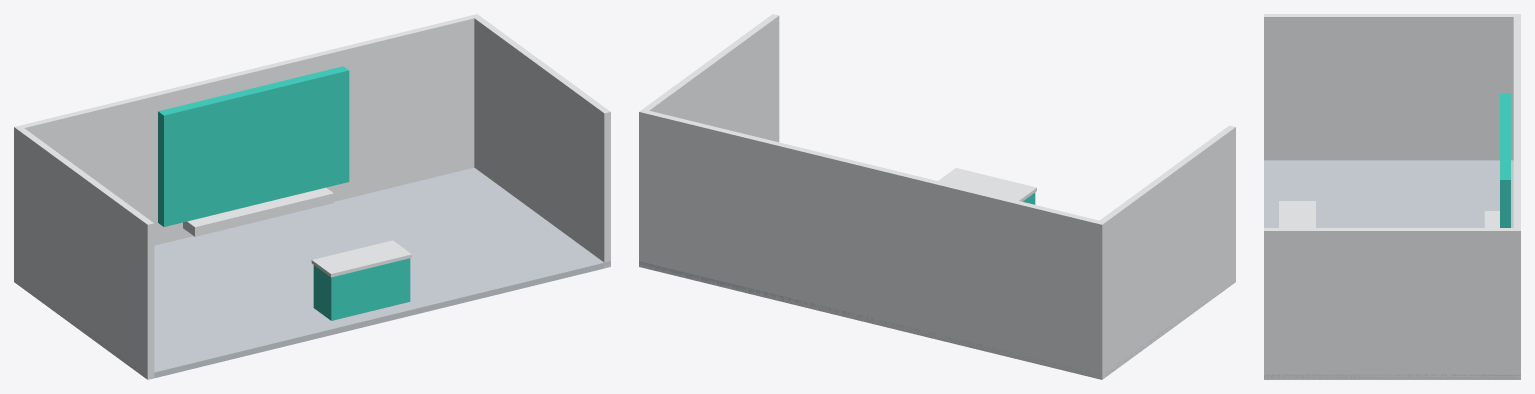
The picture shows the model from 3 angles, left to right: view 1: azimuth 30°, elevation 25°; view 2: azimuth 150°, elevation 25°; view 3: azimuth 270°, elevation 25°; orthographic projection. The views are drawn at different scales.
Visible parts, largest first — view 1: Exhibition Booth Concept; view 2: Exhibition Booth Concept; view 3: Exhibition Booth Concept.
Boxes of the visible parts, <box> form: Exhibition Booth Concept: <box>14,14,610,379</box>; Exhibition Booth Concept: <box>639,14,1235,379</box>; Exhibition Booth Concept: <box>1264,14,1520,379</box>.
Bounding box in the file's own units: 10 × 3.2 × 5.
